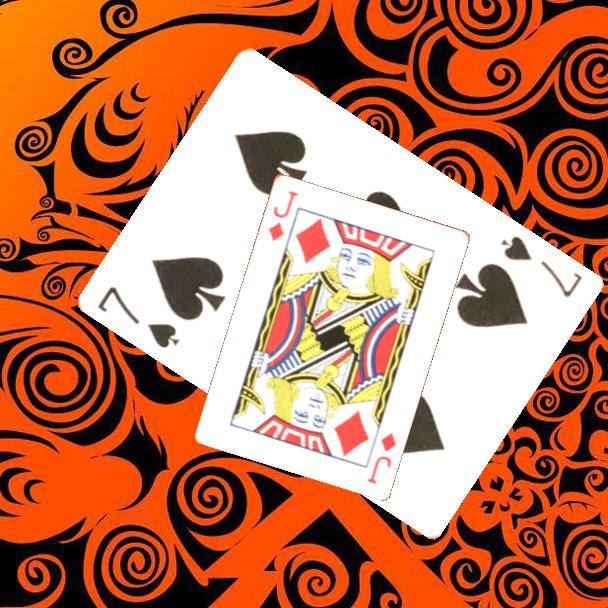d11: (264, 186, 301, 244), (363, 428, 399, 486)
s07: (94, 282, 184, 351), (498, 232, 586, 301)
